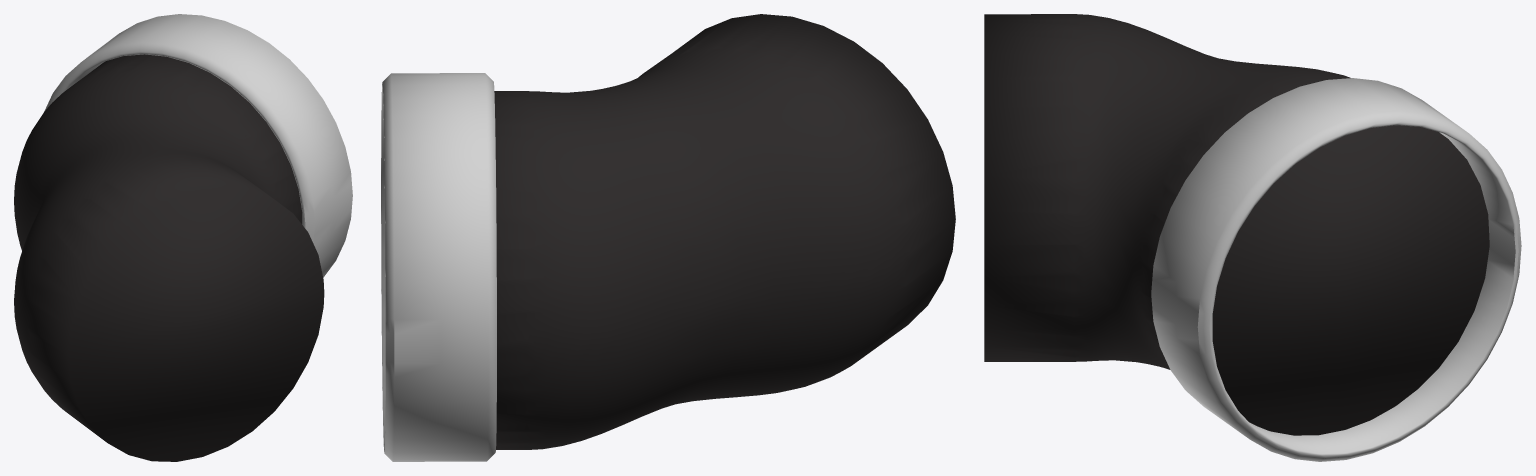
File: mico_link_4.dae
The picture shows the model from 3 angles, left to right: view 1: azimuth 30°, elevation 25°; view 2: azimuth 150°, elevation 25°; view 3: azimuth 270°, elevation 25°; orthographic projection. The views are drawn at different scales.
Visible parts, largest first — view 1: Mico_very_simplified_-_Link_-_Wrist_Mico-1_0012, Wrist_1_Ring_Link_0012; view 2: Mico_very_simplified_-_Link_-_Wrist_Mico-1_0012, Wrist_1_Ring_Link_0012; view 3: Mico_very_simplified_-_Link_-_Wrist_Mico-1_0012, Wrist_1_Ring_Link_0012.
Boxes of the visible parts, x1,y1,x2,y2 form: Mico_very_simplified_-_Link_-_Wrist_Mico-1_0012: (14,54,324,461); Wrist_1_Ring_Link_0012: (44,14,352,277); Mico_very_simplified_-_Link_-_Wrist_Mico-1_0012: (494,14,955,449); Wrist_1_Ring_Link_0012: (381,73,496,461); Mico_very_simplified_-_Link_-_Wrist_Mico-1_0012: (984,14,1489,435); Wrist_1_Ring_Link_0012: (1151,78,1521,461).
Bounding box in the file's own units: 0.0928 × 0.0679 × 0.0971.
Materials: 1 (1 with a texture image).
